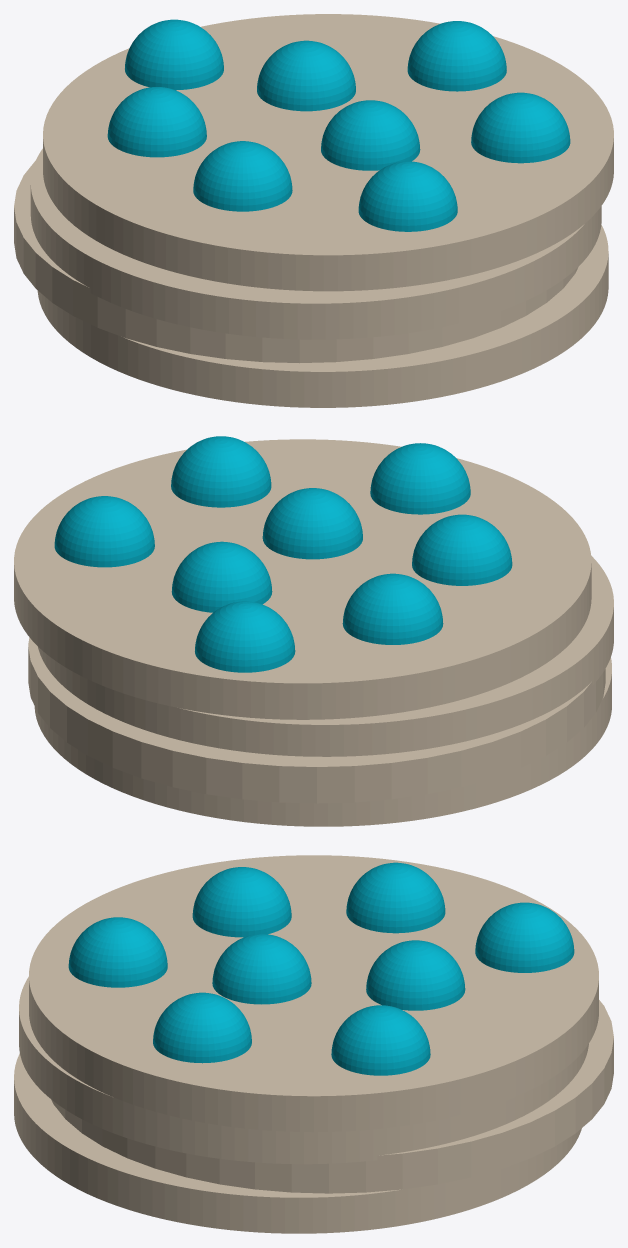
File: Grayson B - Stack of Pancakes.glb
3 views of the same model, one above another, from view 1: azimuth 30°, elevation 25°; view 2: azimuth 150°, elevation 25°; view 3: azimuth 270°, elevation 25° (orthographic).
Parts seen in each view (by area): view 1: Mesh_Mesh_head_geo.001_lambert2SG.001; view 2: Mesh_Mesh_head_geo.001_lambert2SG.001; view 3: Mesh_Mesh_head_geo.001_lambert2SG.001.
Boxes of the visible parts, <box> form: Mesh_Mesh_head_geo.001_lambert2SG.001: <box>14,14,613,407</box>; Mesh_Mesh_head_geo.001_lambert2SG.001: <box>14,436,613,826</box>; Mesh_Mesh_head_geo.001_lambert2SG.001: <box>14,855,613,1233</box>.
Size of the model in its own units: 0.12 by 0.042 by 0.121.
